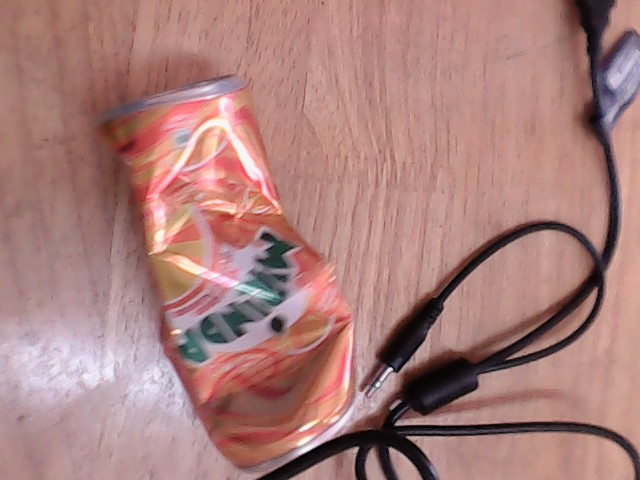Metal: (99, 108, 355, 434)
